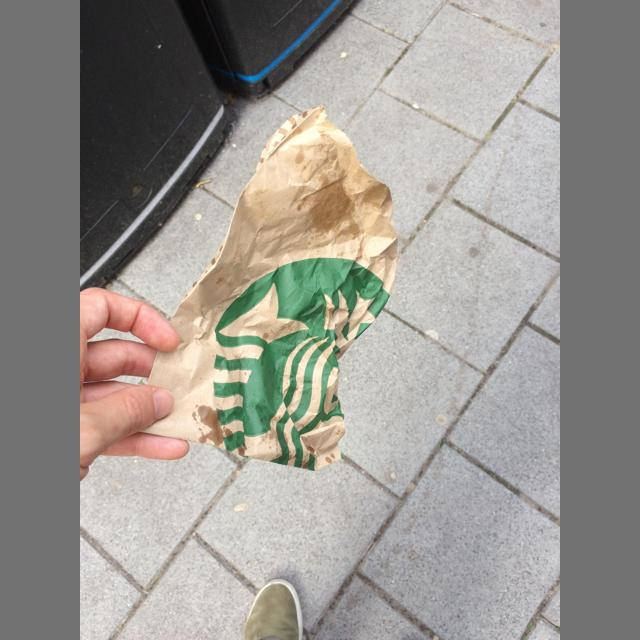litter: (138, 105, 398, 471), (242, 578, 303, 640)
